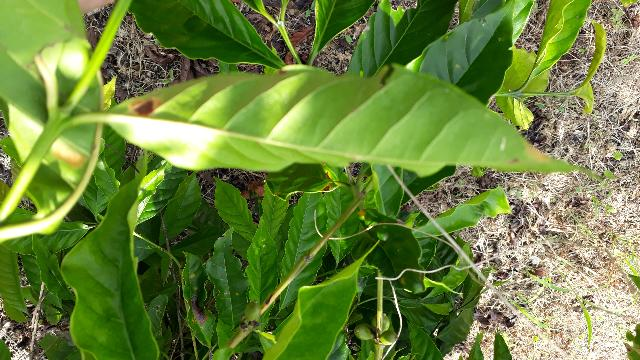red_spider_mite: (56, 184, 531, 299)
